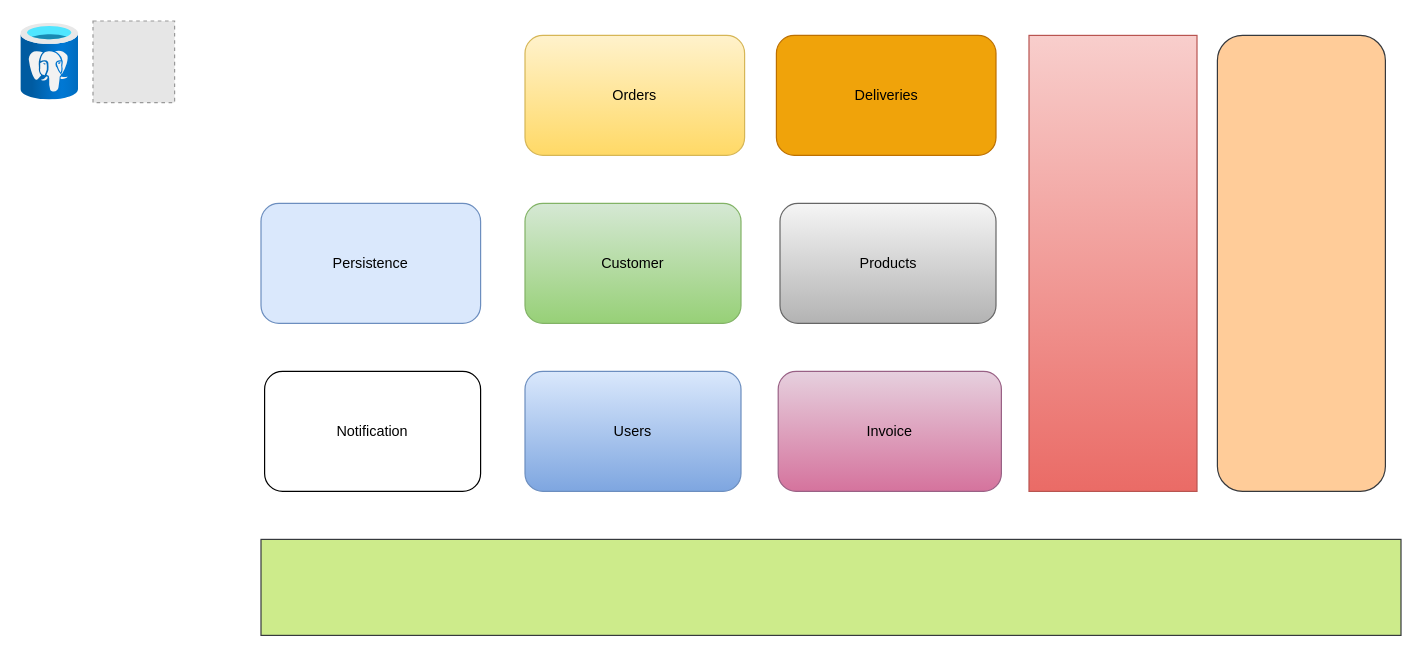
Some shapes in this 1422 by 656 pixel diagram are drawn without their labels. Grey dashed boxes stand in for pictures. Here are the shapes that lost their labels. From the top down, the box of each, then its label:
(1028, 34, 1197, 491): Connectiq.ApiGateway
(1216, 34, 1385, 491): Application
(260, 538, 1401, 635): Connectiq.Monitoring
